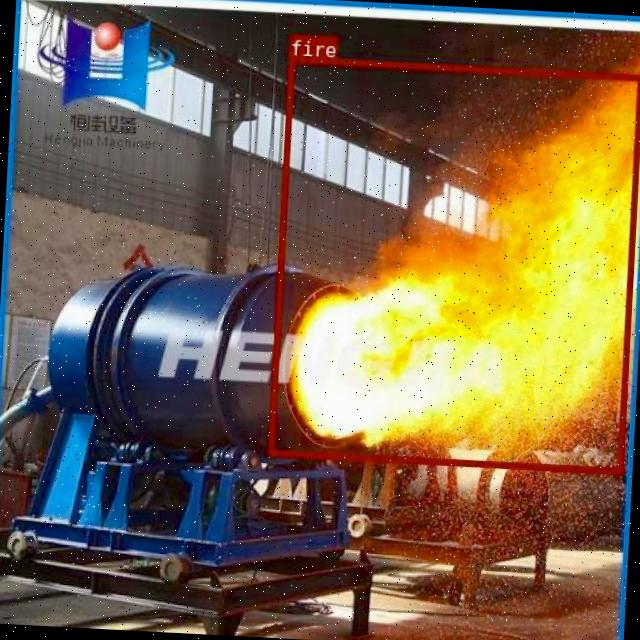fire: (268, 56, 640, 474)
